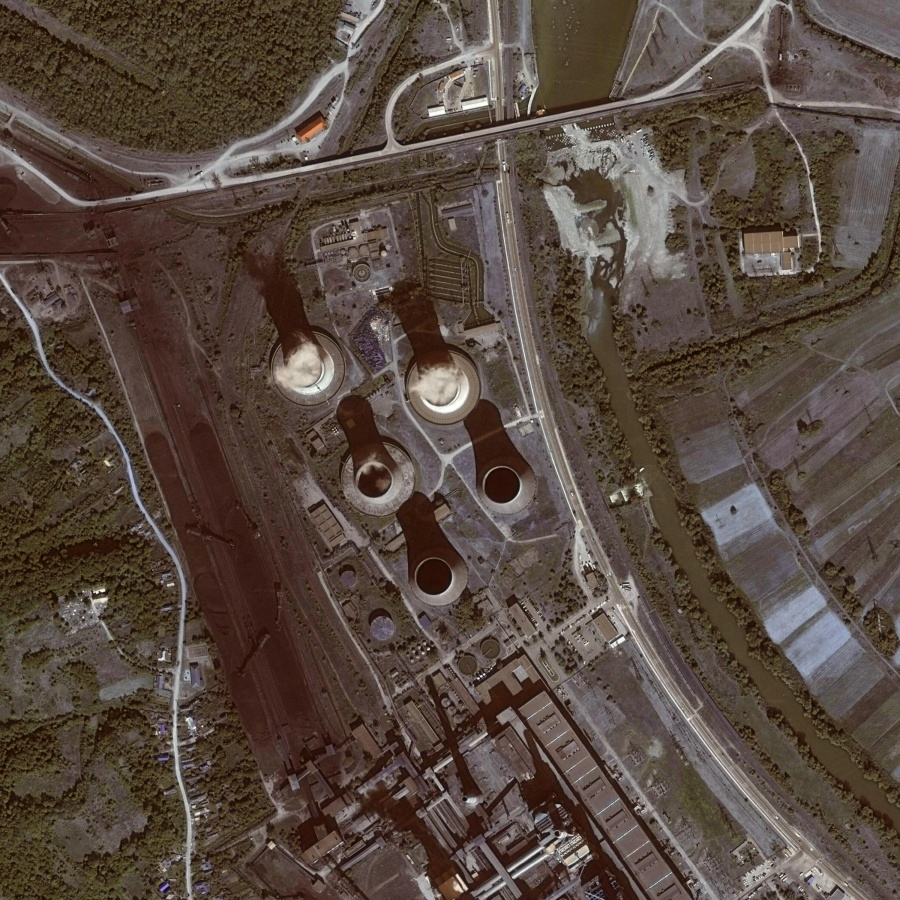PowerPlant: (109, 208, 549, 752)
